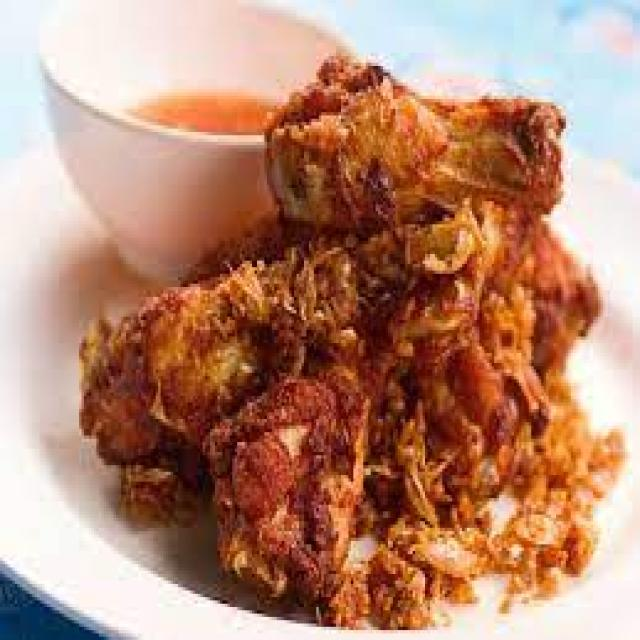Frango: (79, 53, 633, 636)
